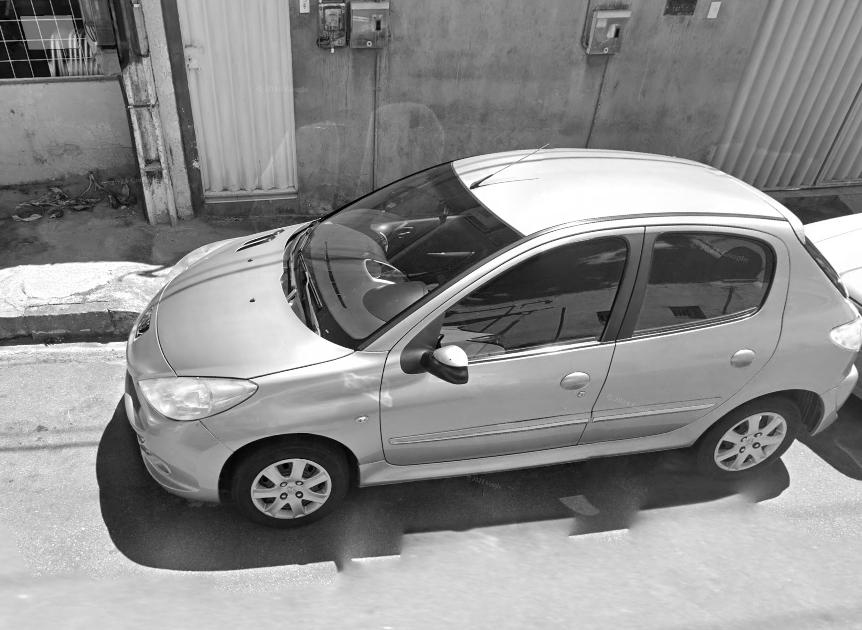car: (109, 134, 862, 534)
